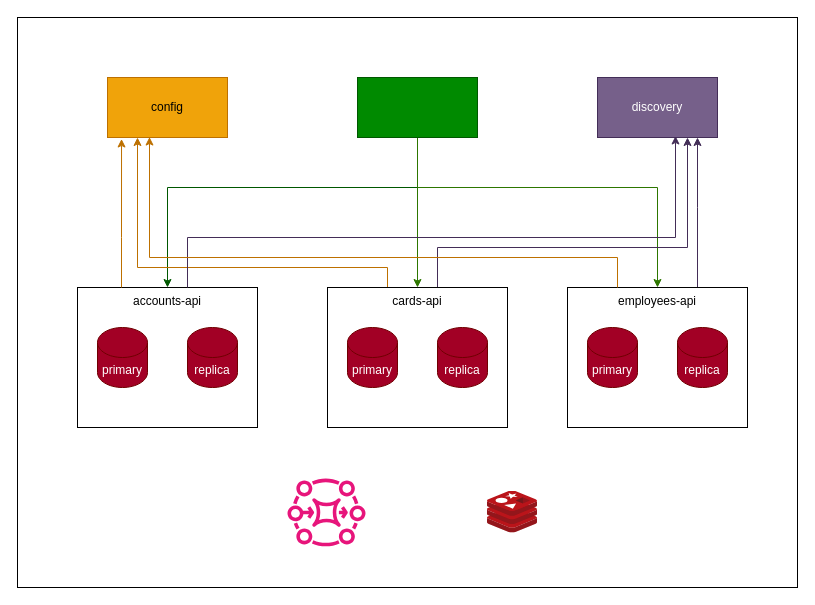
This 815x605 diagram has some shape labels left out. The box of each missing label's shape, as (x1, y1, x2, y2) in pixels:
cache: (487, 490, 537, 532)
gateway: (356, 76, 478, 138)
message broker: (287, 477, 365, 546)
